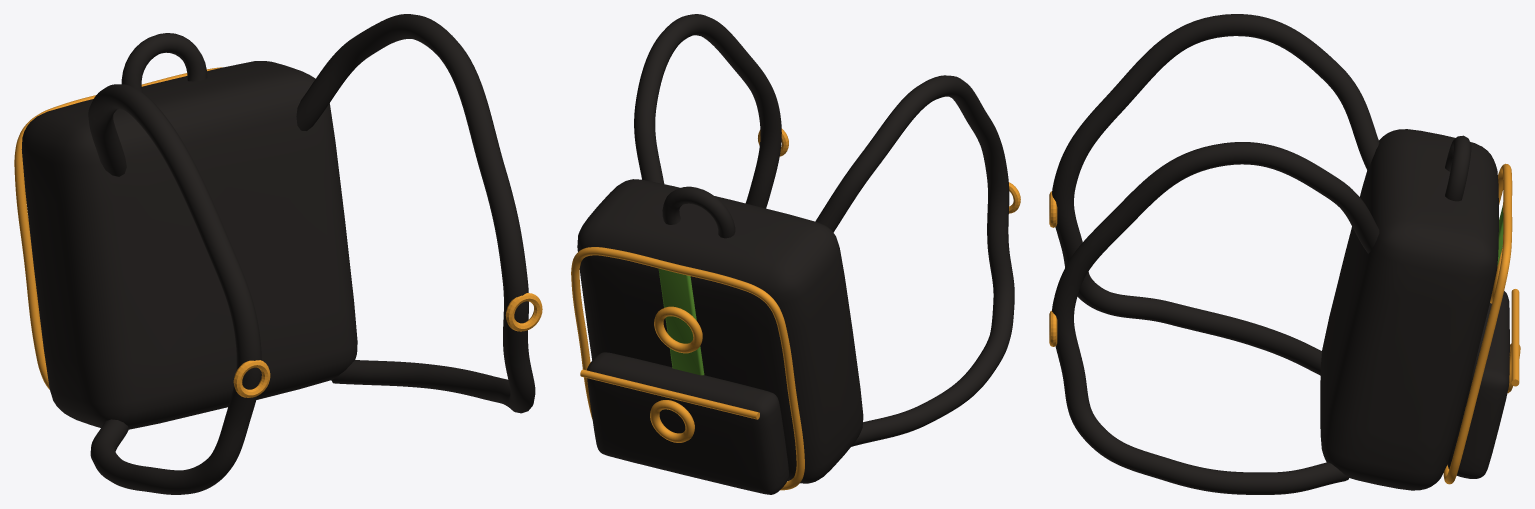
The model's file is mochila.glb.
The picture shows the model from 3 angles, left to right: view 1: azimuth 30°, elevation 25°; view 2: azimuth 150°, elevation 25°; view 3: azimuth 270°, elevation 25°; orthographic projection. The views are drawn at different scales.
Parts seen in each view (by area): view 1: mochila; view 2: mochila; view 3: mochila.
Part boxes in pixels (box(x1,y1,x2,y2)): mochila: box(14, 14, 542, 494); mochila: box(571, 14, 1020, 494); mochila: box(1049, 14, 1520, 494).
Bounding box in the file's own units: 0.7027 × 0.7174 × 0.835.
